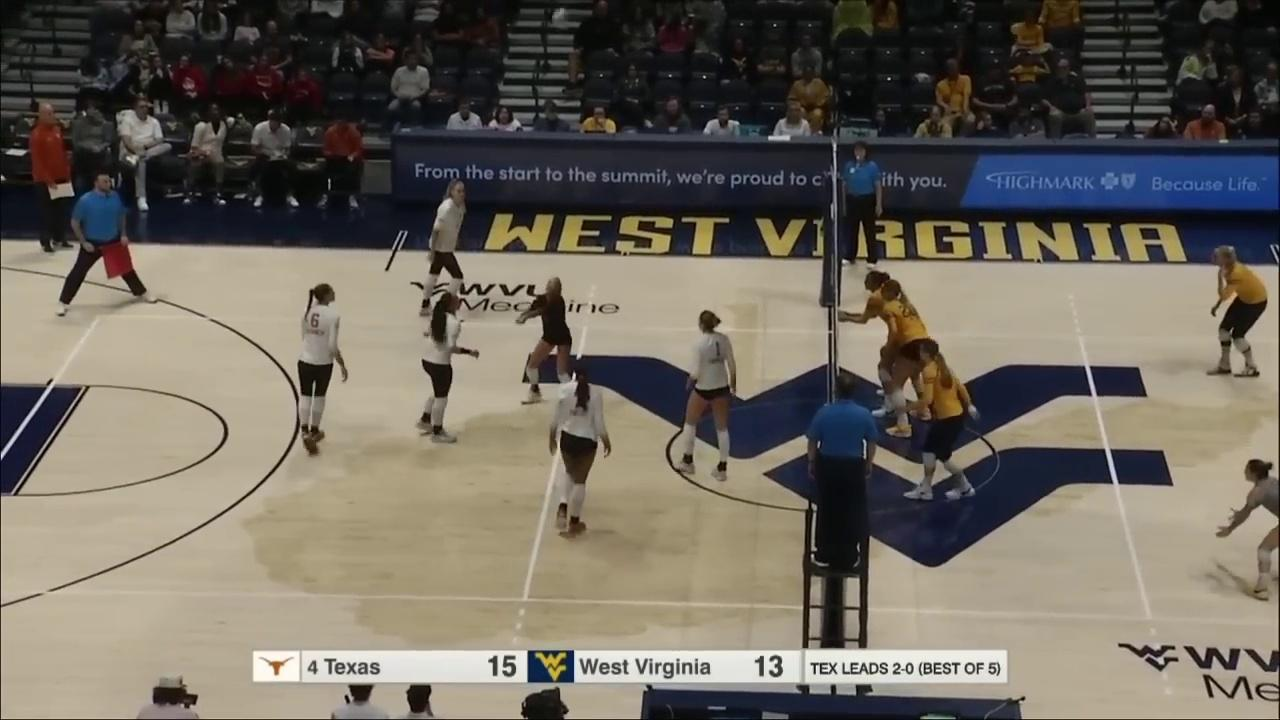player: (902, 340, 983, 498), (549, 361, 613, 537), (675, 310, 738, 482), (841, 273, 913, 415), (1213, 457, 1280, 604), (296, 284, 351, 456), (416, 294, 479, 444), (879, 279, 933, 435), (517, 277, 579, 405), (1210, 244, 1268, 379), (423, 177, 471, 319)
refree: (803, 375, 876, 568), (55, 176, 158, 312), (841, 141, 884, 267)
